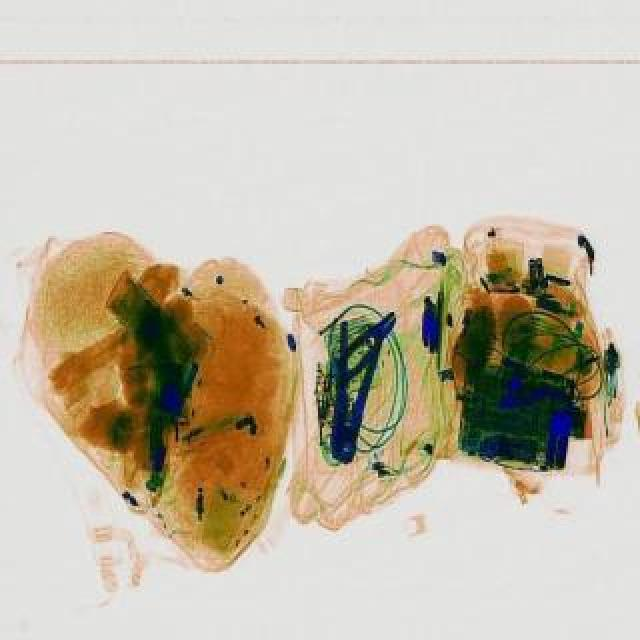wrench: (318, 318, 384, 462), (326, 304, 404, 378)
